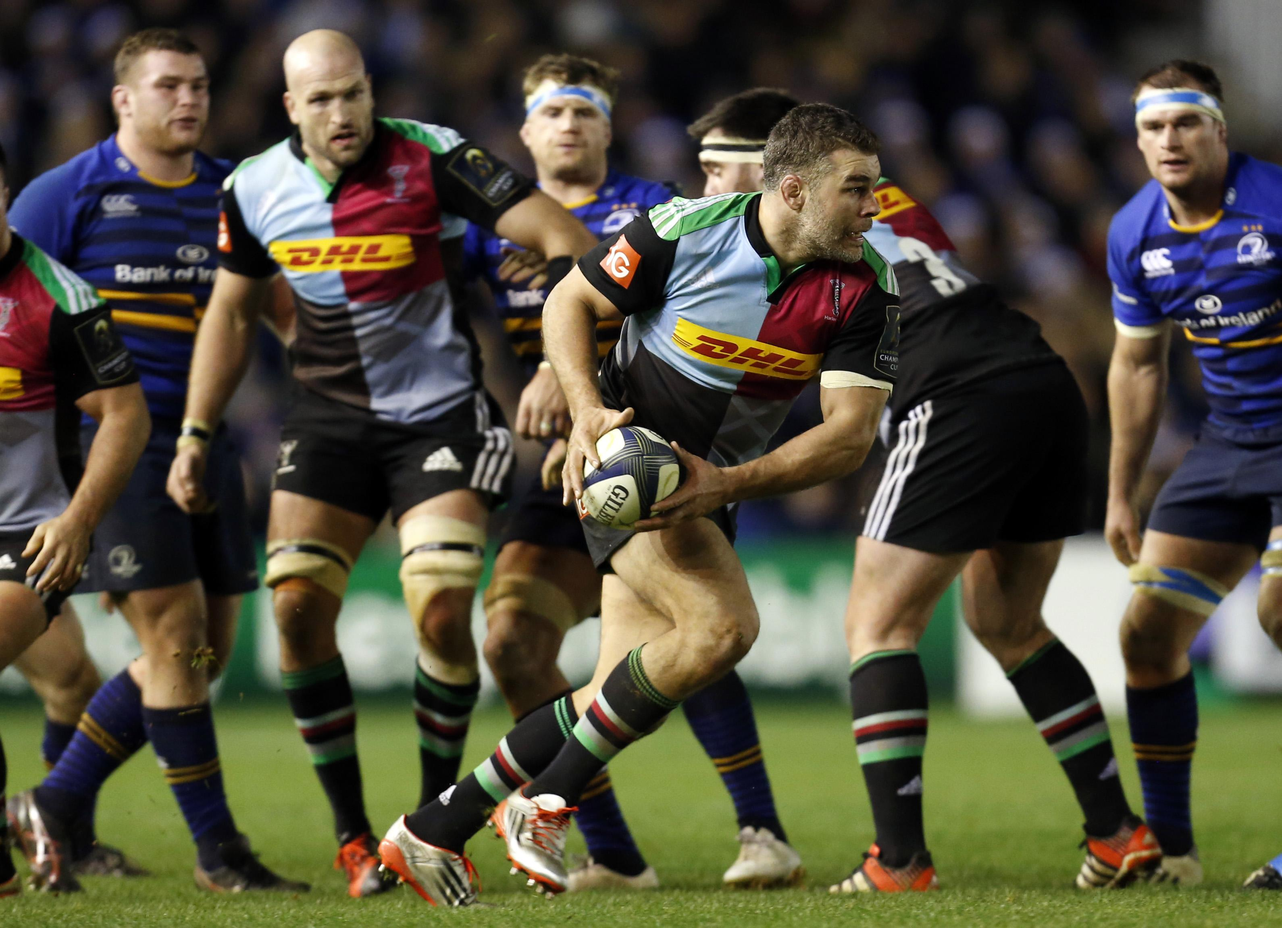ballon_rugby: (555, 420, 700, 531)
